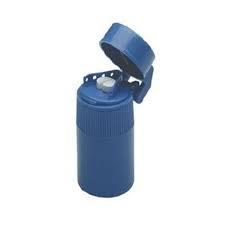Unknown plastic: (58, 20, 167, 210)
